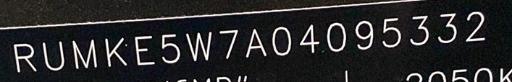letter: (70, 38, 100, 72), (184, 29, 214, 62), (214, 28, 242, 62), (432, 12, 460, 45), (378, 16, 404, 51), (460, 9, 488, 41), (241, 25, 267, 59), (406, 13, 432, 46), (350, 19, 376, 52), (102, 35, 128, 68), (324, 20, 350, 52), (295, 23, 321, 55), (268, 25, 294, 57), (12, 40, 38, 72), (40, 39, 66, 70), (158, 31, 182, 64), (132, 33, 156, 66)
